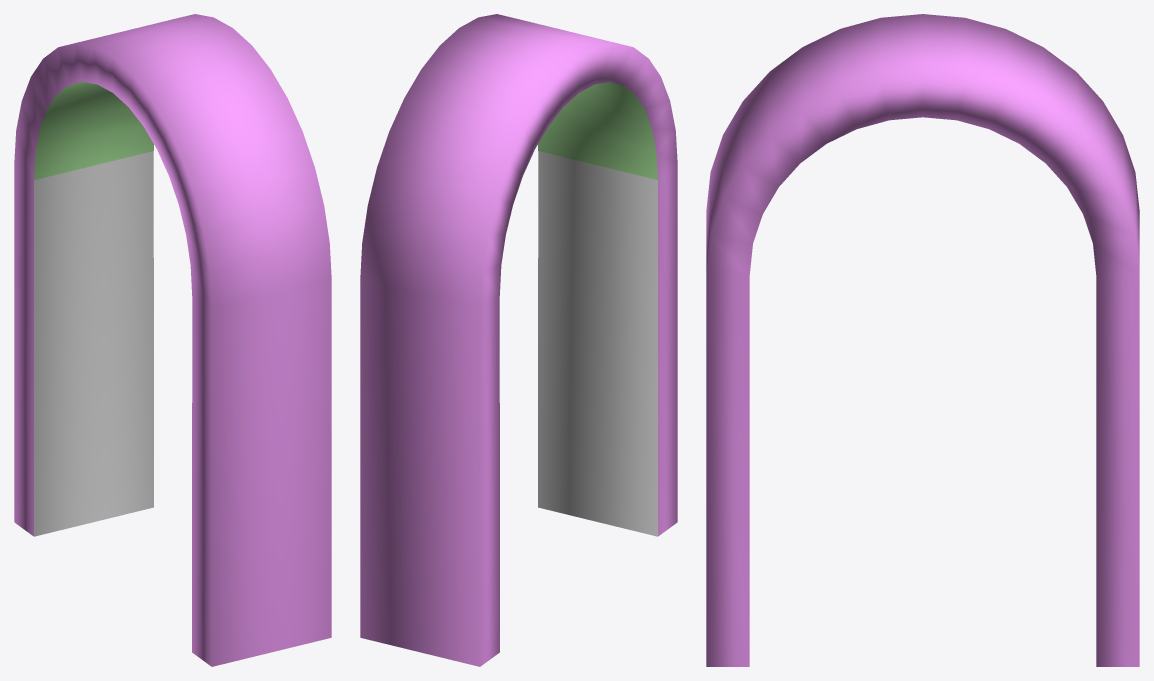
The model's file is Arch.fbx.
3 views of the same model, side by side, from view 1: azimuth 30°, elevation 25°; view 2: azimuth 150°, elevation 25°; view 3: azimuth 270°, elevation 25° (orthographic). The views are drawn at different scales.
Visible parts, largest first — view 1: Arch; view 2: Arch; view 3: Arch.
Part boxes in pixels (box(x1,y1,x2,y2)): Arch: box(14, 14, 331, 666); Arch: box(360, 14, 677, 666); Arch: box(706, 14, 1139, 666).
Size of the model in its own units: 0.7 by 3 by 2.
